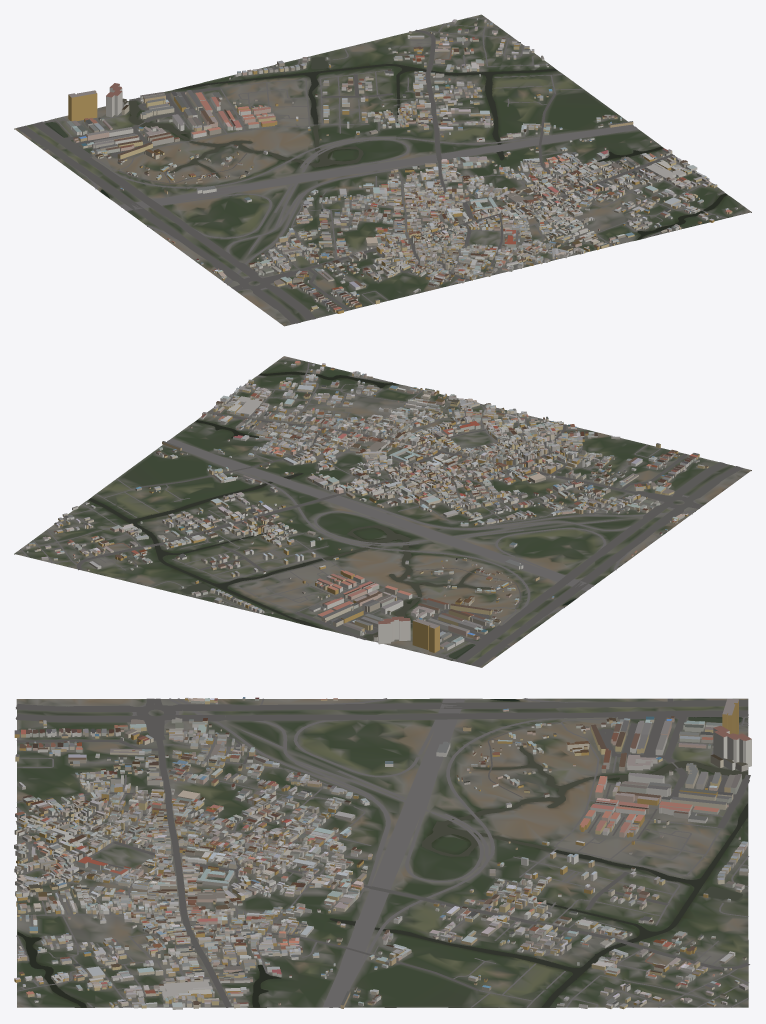
3 renders of one model, top to bottom at view 1: azimuth 30°, elevation 25°; view 2: azimuth 150°, elevation 25°; view 3: azimuth 270°, elevation 25°, orthographic. The views are drawn at different scales.
Parts seen in each view (by area): view 1: ground, buildings, roads, water; view 2: ground, buildings, roads, water; view 3: ground, buildings, roads, water.
Part boxes in pixels (bbox=[...]): ground: bbox=[14, 14, 751, 326]; buildings: bbox=[66, 18, 737, 313]; roads: bbox=[17, 17, 726, 324]; water: bbox=[44, 57, 727, 239]; ground: bbox=[14, 356, 751, 667]; buildings: bbox=[25, 361, 708, 652]; roads: bbox=[20, 362, 743, 666]; water: bbox=[88, 371, 576, 660]; ground: bbox=[16, 698, 748, 1007]; buildings: bbox=[14, 697, 751, 1009]; roads: bbox=[15, 698, 750, 1007]; water: bbox=[17, 699, 747, 1007].
Size of the model in its own units: 1412 by 73.71 by 1413.
